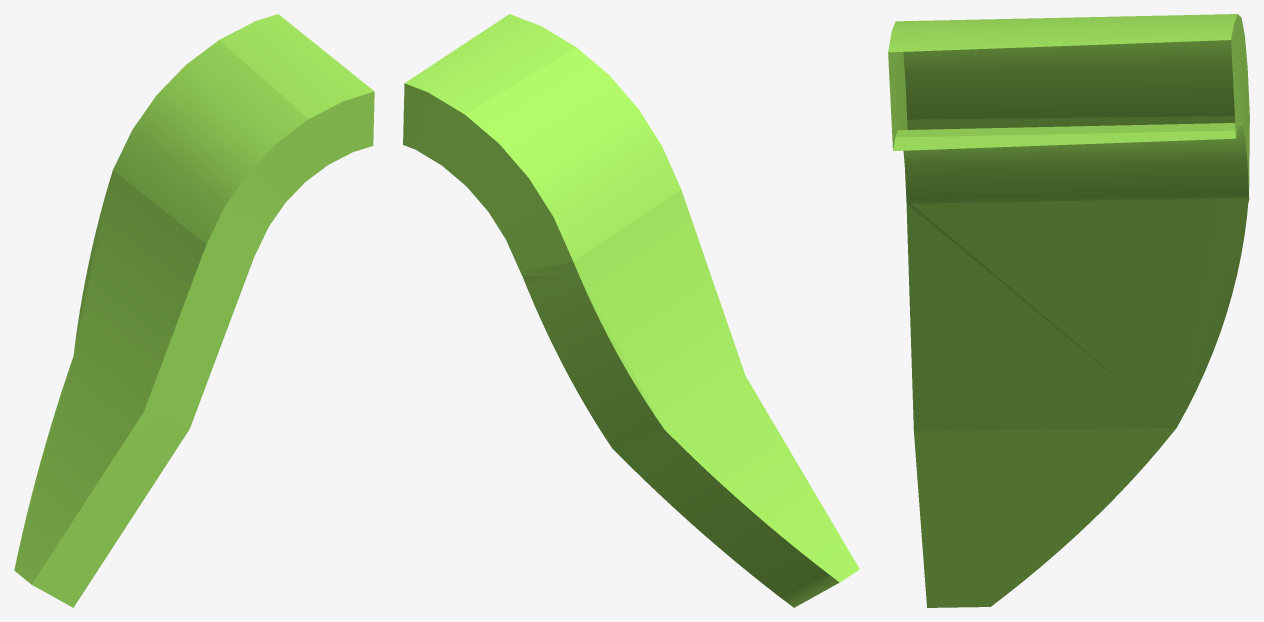
The model's file is original-17.obj.
The picture shows the model from 3 angles, left to right: view 1: azimuth 30°, elevation 25°; view 2: azimuth 150°, elevation 25°; view 3: azimuth 270°, elevation 25°; orthographic projection. The views are drawn at different scales.
Parts seen in each view (by area): view 1: Group13/mesh109/mesh109-geometry#mesh109-geometry; view 2: Group13/mesh109/mesh109-geometry#mesh109-geometry; view 3: Group13/mesh109/mesh109-geometry#mesh109-geometry.
Part boxes in pixels (bbox=[...]): Group13/mesh109/mesh109-geometry#mesh109-geometry: bbox=[14, 14, 374, 607]; Group13/mesh109/mesh109-geometry#mesh109-geometry: bbox=[403, 14, 859, 607]; Group13/mesh109/mesh109-geometry#mesh109-geometry: bbox=[888, 14, 1249, 607].
Size of the model in its own units: 0.1421 by 0.1883 by 0.0753.
